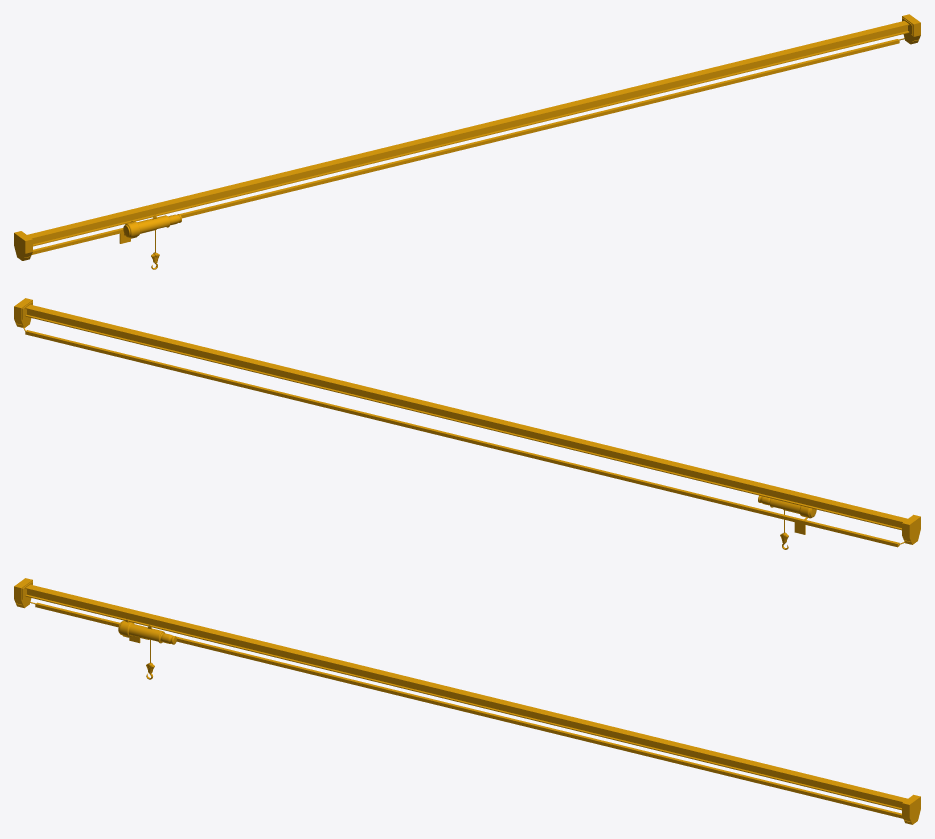
The model's file is craneTest.glb.
3 renders of one model, top to bottom at view 1: azimuth 30°, elevation 25°; view 2: azimuth 150°, elevation 25°; view 3: azimuth 330°, elevation 25°, orthographic.
Visible parts, largest first — view 1: Cylinder.001; view 2: Cylinder.001; view 3: Cylinder.001.
Boxes of the visible parts, left/top/right/bottom form: Cylinder.001: left=14, top=14, right=920, bottom=269; Cylinder.001: left=14, top=298, right=920, bottom=549; Cylinder.001: left=14, top=578, right=920, bottom=824.
Size of the model in its own units: 30.09 by 2.02 by 0.71.
